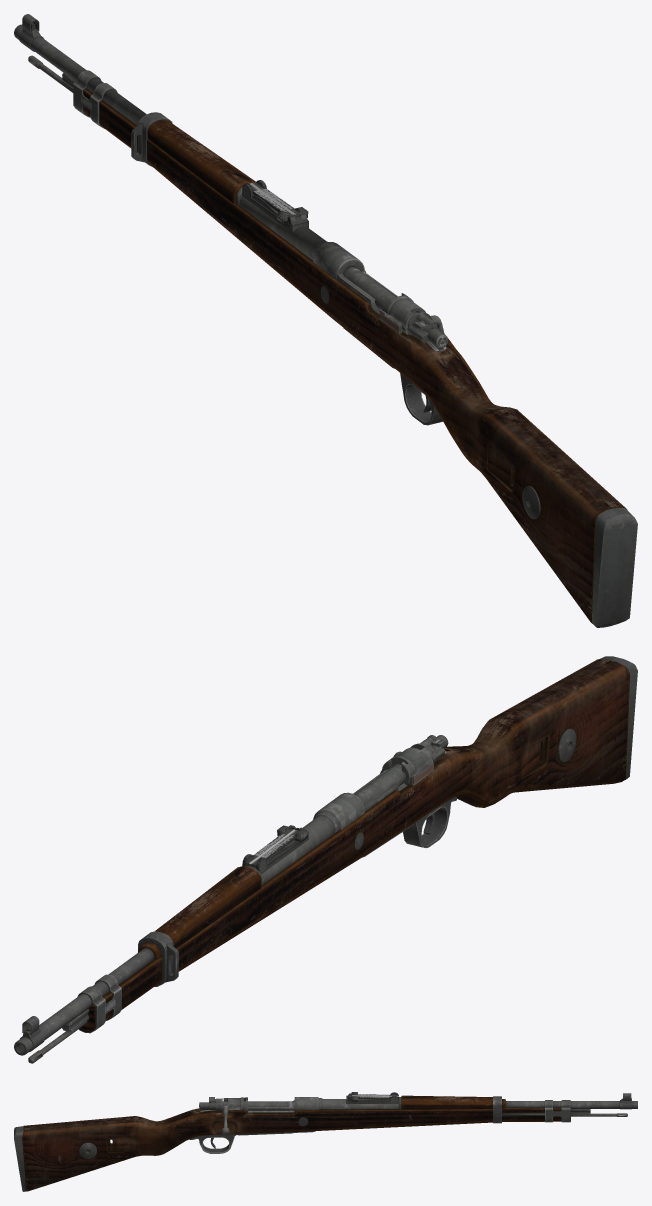
Rendered from Kar98k.glb.
3 renders of one model, top to bottom at view 1: azimuth 30°, elevation 25°; view 2: azimuth 150°, elevation 25°; view 3: azimuth 270°, elevation 25°, orthographic. The views are drawn at different scales.
Visible parts, largest first — view 1: Kar98k_Body; view 2: Kar98k_Body; view 3: Kar98k_Body.
Part boxes in pixels (x1=…): Kar98k_Body: x1=14, y1=14, x2=637, y2=627; Kar98k_Body: x1=14, y1=656, x2=637, y2=1063; Kar98k_Body: x1=14, y1=1092, x2=637, y2=1191.
Bounding box in the file's own units: 0.0606 × 0.1893 × 1.11.
Materials: 5 (5 with a texture image).
